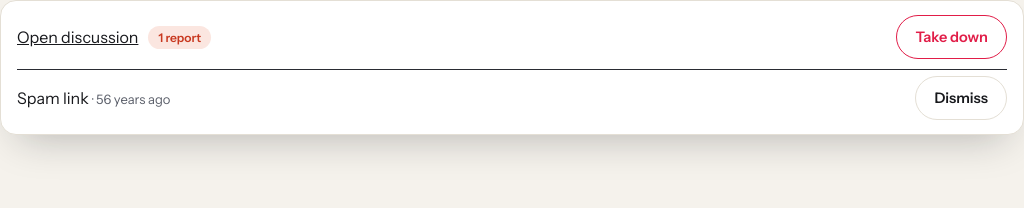
Test: ReportsSection › deletes the discussion behind a thread report
This screenshot has width=1024, height=208.
Click the button "Take down": (952, 37) [896,15,1007,59]
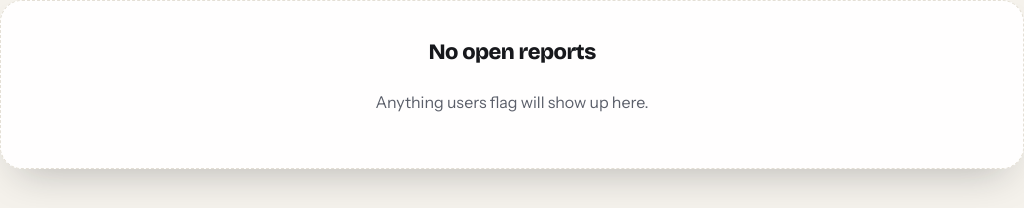
Now the text "Spam link" is gone
